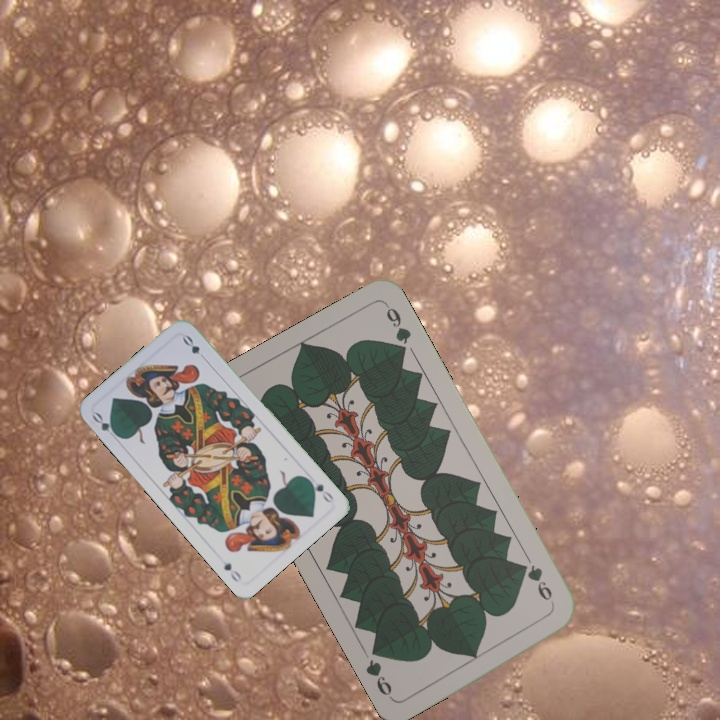G9: (516, 559, 557, 609)
GO: (88, 408, 123, 440), (303, 474, 336, 506)
